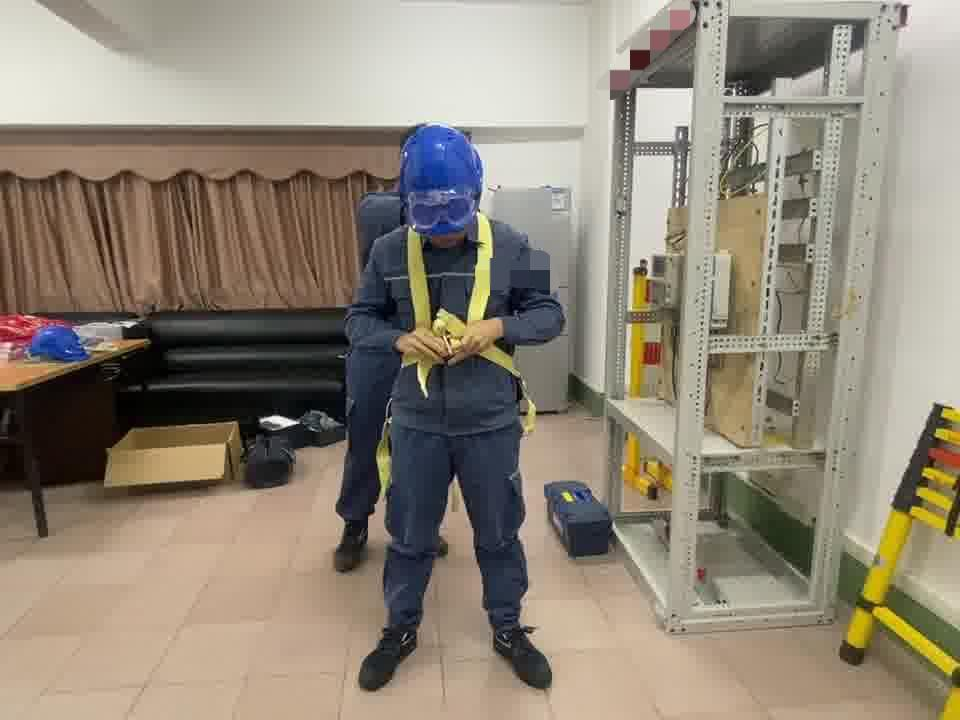halt: (400, 127, 488, 242)
